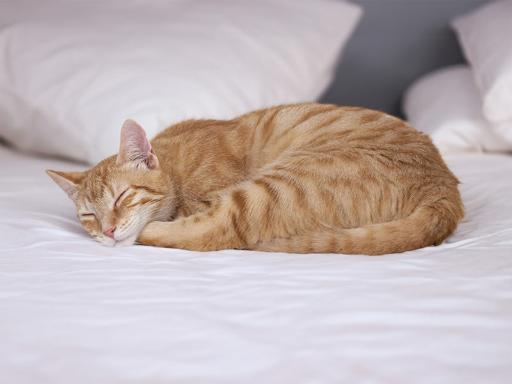cat_sleeping: (47, 103, 464, 255)
